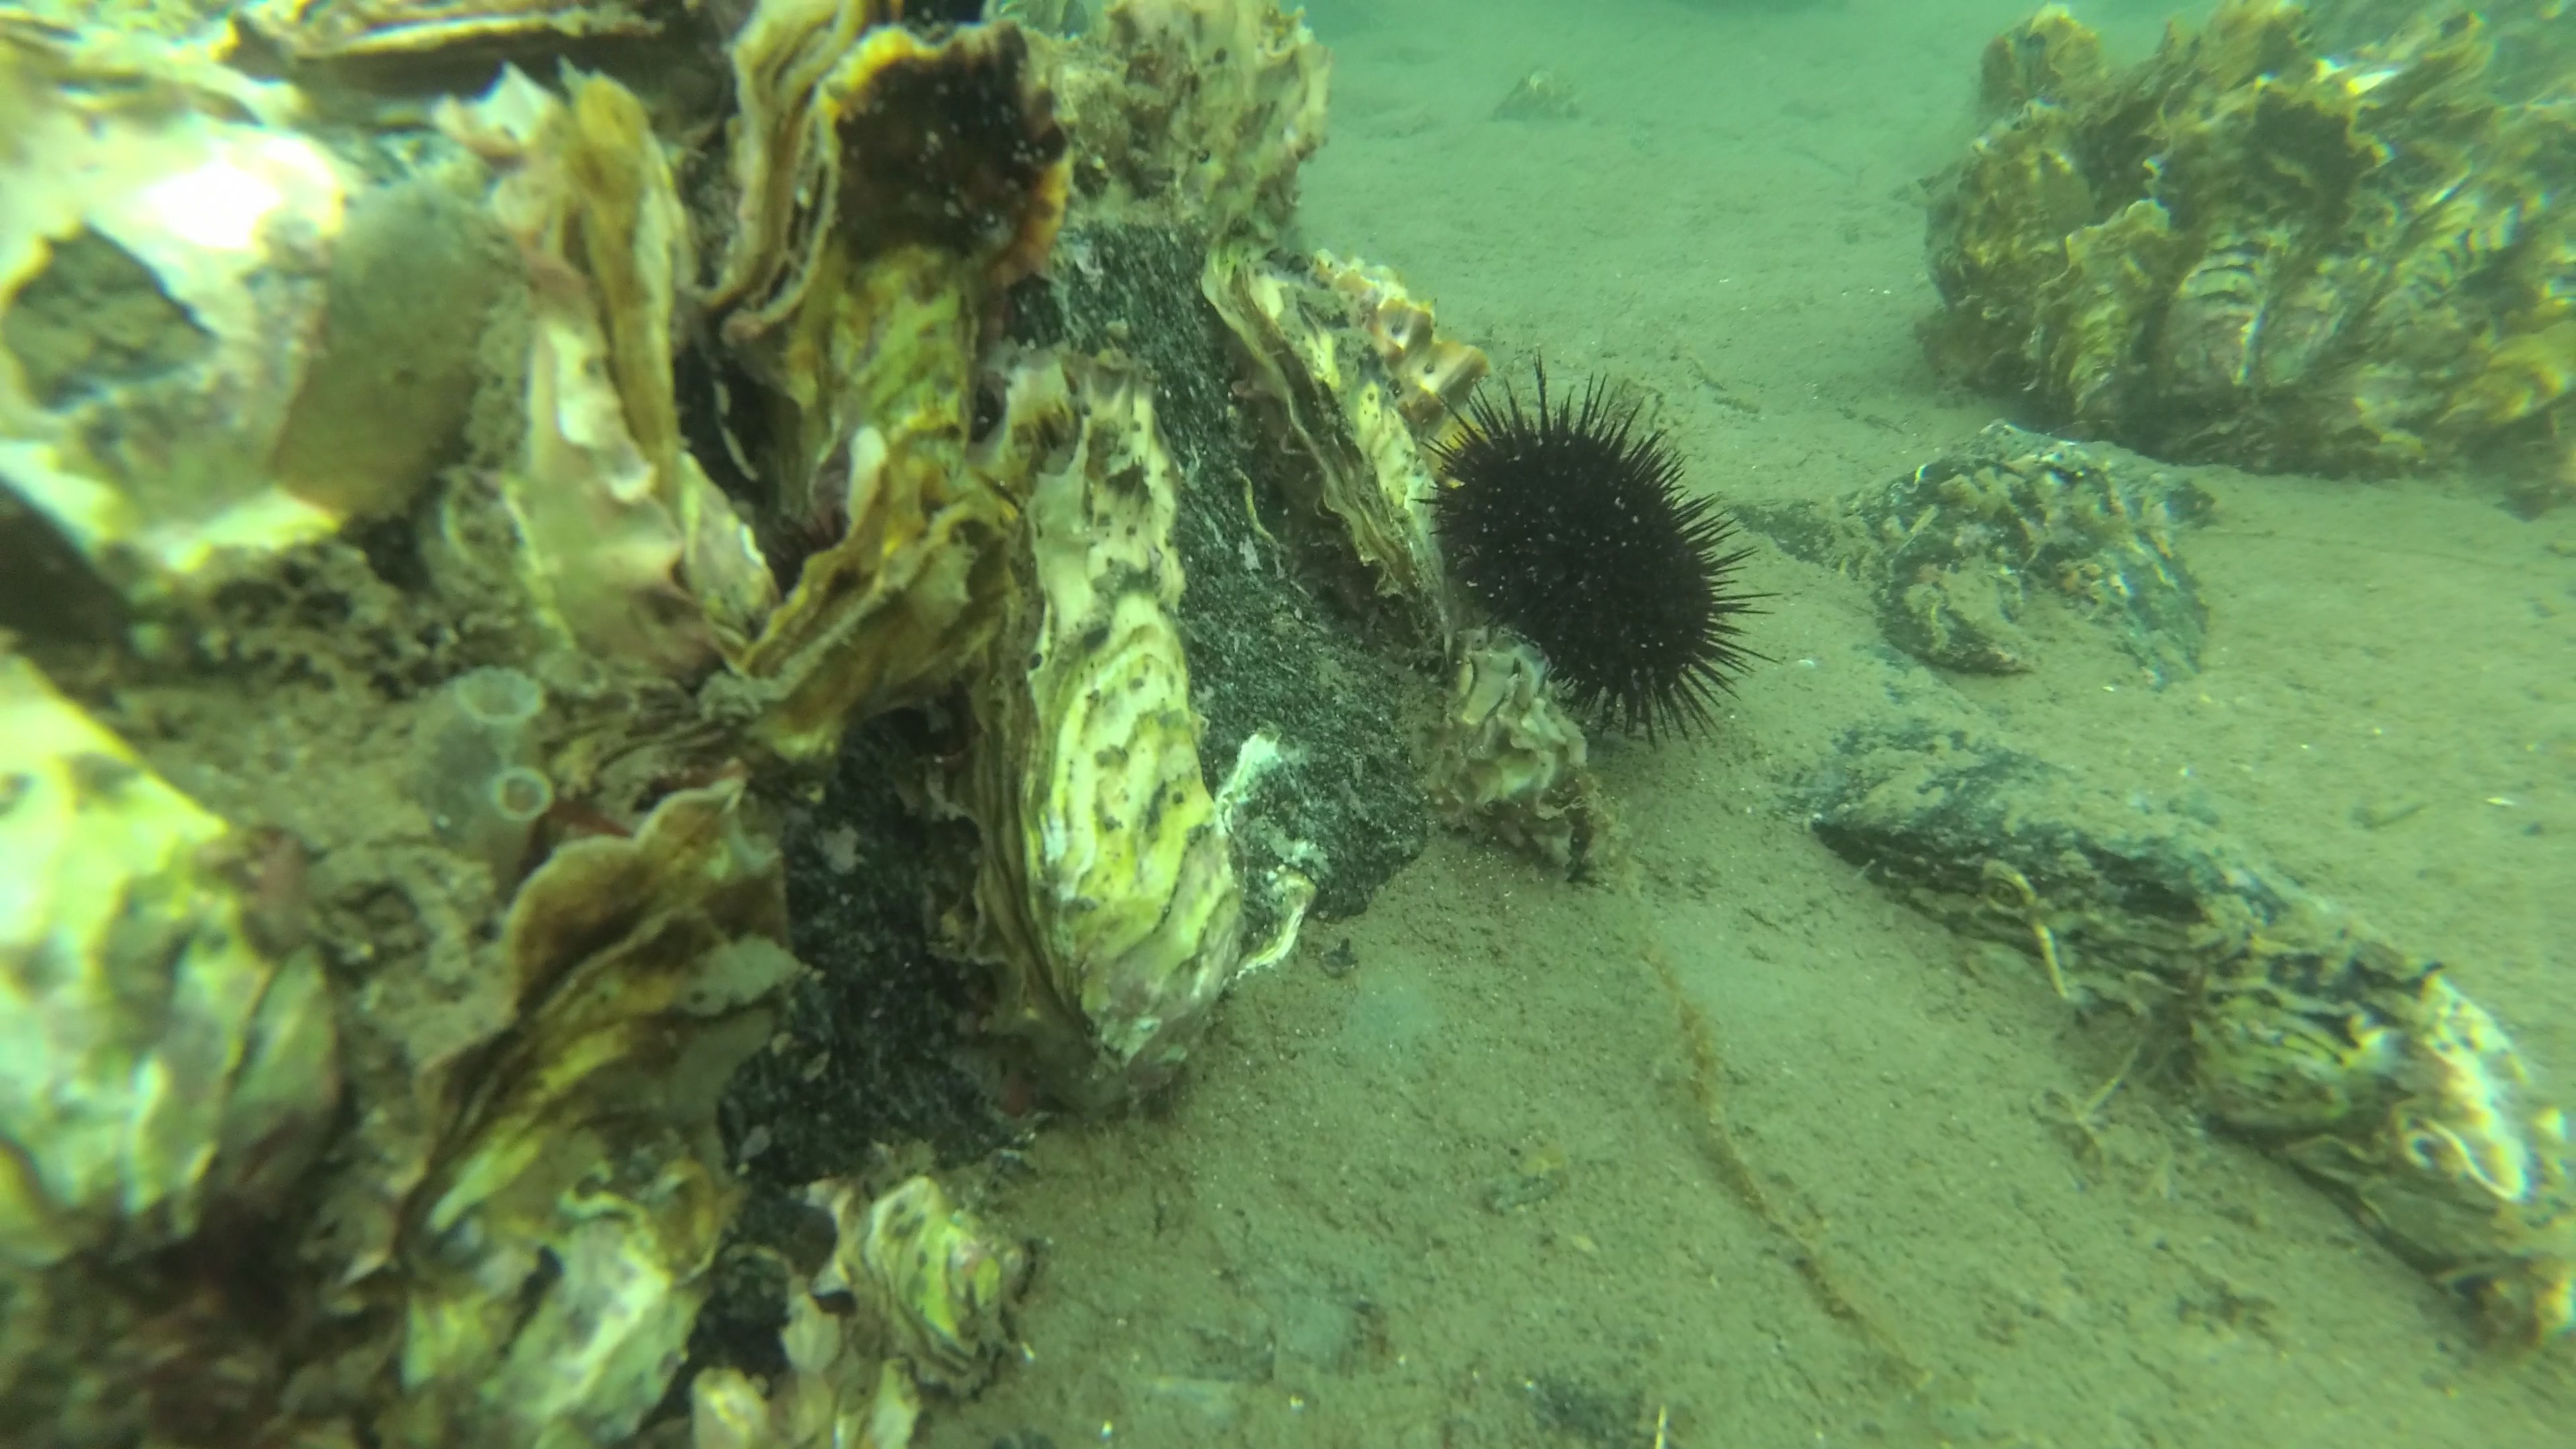echinus: (1415, 357, 1782, 752)
